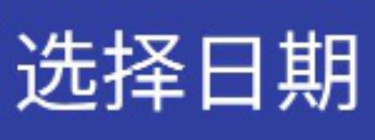TextView: (1, 1, 374, 139)
